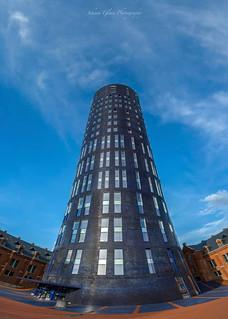building: (40, 81, 204, 308)
